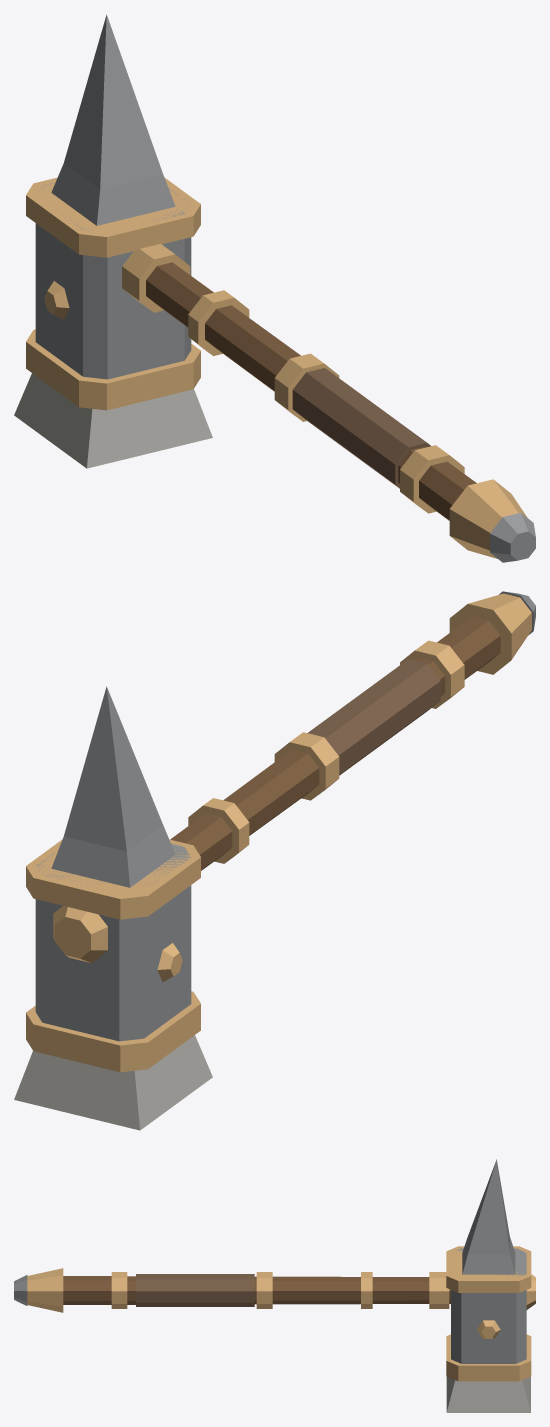
File: held-hammer.glb
The picture shows the model from 3 angles, top to bottom: view 1: azimuth 30°, elevation 25°; view 2: azimuth 150°, elevation 25°; view 3: azimuth 270°, elevation 25°; orthographic projection. The views are drawn at different scales.
Visible parts, largest first — view 1: head, spike, striking_face, haft, grip_wrap, head_collar_back, head_collar_face, pommel, band_neck, pommel_nub, band_grip_low, band_mid (+2 smaller); view 2: head, spike, striking_face, haft, grip_wrap, head_collar_back, head_collar_face, pommel, haft_cap, band_grip_high, band_grip_low, band_mid (+1 smaller); view 3: haft, head, grip_wrap, spike, striking_face, head_collar_back, head_collar_face, pommel, band_neck, band_grip_high, band_grip_low, band_mid (+2 smaller).
Boxes of the visible parts, left/top/right/bottom form: head: left=35, top=182, right=191, bottom=379; spike: left=51, top=14, right=175, bottom=225; striking_face: left=14, top=373, right=212, bottom=468; haft: left=146, top=262, right=476, bottom=520; grip_wrap: left=292, top=368, right=431, bottom=488; head_collar_back: left=26, top=177, right=200, bottom=257; head_collar_face: left=26, top=329, right=200, bottom=410; pommel: left=449, top=479, right=527, bottom=558; band_neck: left=122, top=243, right=190, bottom=312; pommel_nub: left=490, top=512, right=535, bottom=562; band_grip_low: left=400, top=445, right=464, bottom=513; band_mid: left=188, top=290, right=249, bottom=355; head: left=35, top=844, right=191, bottom=1041; spike: left=51, top=686, right=175, bottom=887; striking_face: left=14, top=1035, right=212, bottom=1130; haft: left=170, top=616, right=500, bottom=870; grip_wrap: left=307, top=659, right=440, bottom=775; head_collar_back: left=26, top=839, right=200, bottom=919; head_collar_face: left=26, top=991, right=200, bottom=1072; pommel: left=449, top=593, right=531, bottom=674; haft_cap: left=53, top=906, right=107, bottom=963; band_grip_high: left=274, top=732, right=339, bottom=800; band_grip_low: left=400, top=640, right=464, bottom=708; band_mid: left=188, top=798, right=249, bottom=863; haft: left=63, top=1276, right=450, bottom=1304; head: left=451, top=1248, right=526, bottom=1363; grip_wrap: left=136, top=1274, right=254, bottom=1306; spike: left=462, top=1159, right=515, bottom=1274; striking_face: left=446, top=1376, right=530, bottom=1412; head_collar_back: left=446, top=1246, right=531, bottom=1292; head_collar_face: left=446, top=1334, right=531, bottom=1381; pommel: left=27, top=1268, right=63, bottom=1312; band_neck: left=429, top=1272, right=449, bottom=1308; band_grip_high: left=256, top=1272, right=272, bottom=1308; band_grip_low: left=111, top=1272, right=127, bottom=1308; band_mid: left=361, top=1272, right=372, bottom=1308.
Size of what is drawn, in the model's own units: 0.128 by 0.395 by 0.7915.
